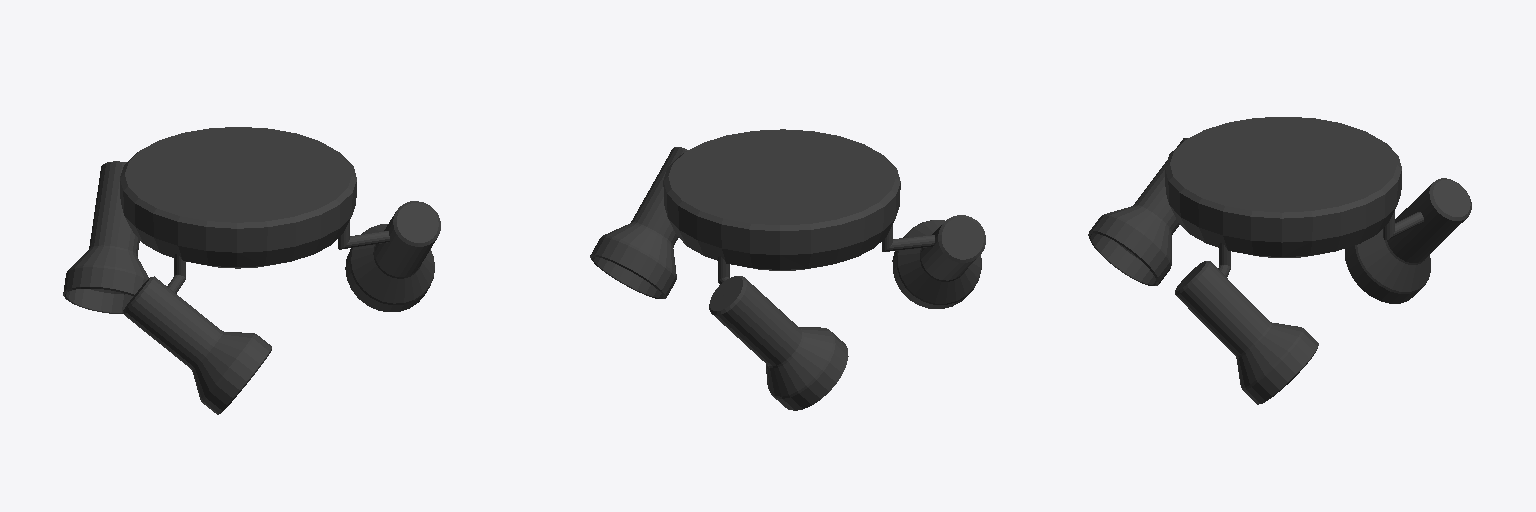
File: ceiling_lamp.obj
3 renders of one model, left to right at view 1: azimuth 30°, elevation 25°; view 2: azimuth 150°, elevation 25°; view 3: azimuth 270°, elevation 25°, orthographic.
Visible parts, largest first — view 1: Circle.032; view 2: Circle.032; view 3: Circle.032.
Boxes of the visible parts, box(x1,y1,x2,y2) form: Circle.032: box(63, 127, 440, 414); Circle.032: box(590, 129, 985, 410); Circle.032: box(1088, 117, 1471, 404).
Bounding box in the file's own units: 0.3216 × 0.1498 × 0.3086.